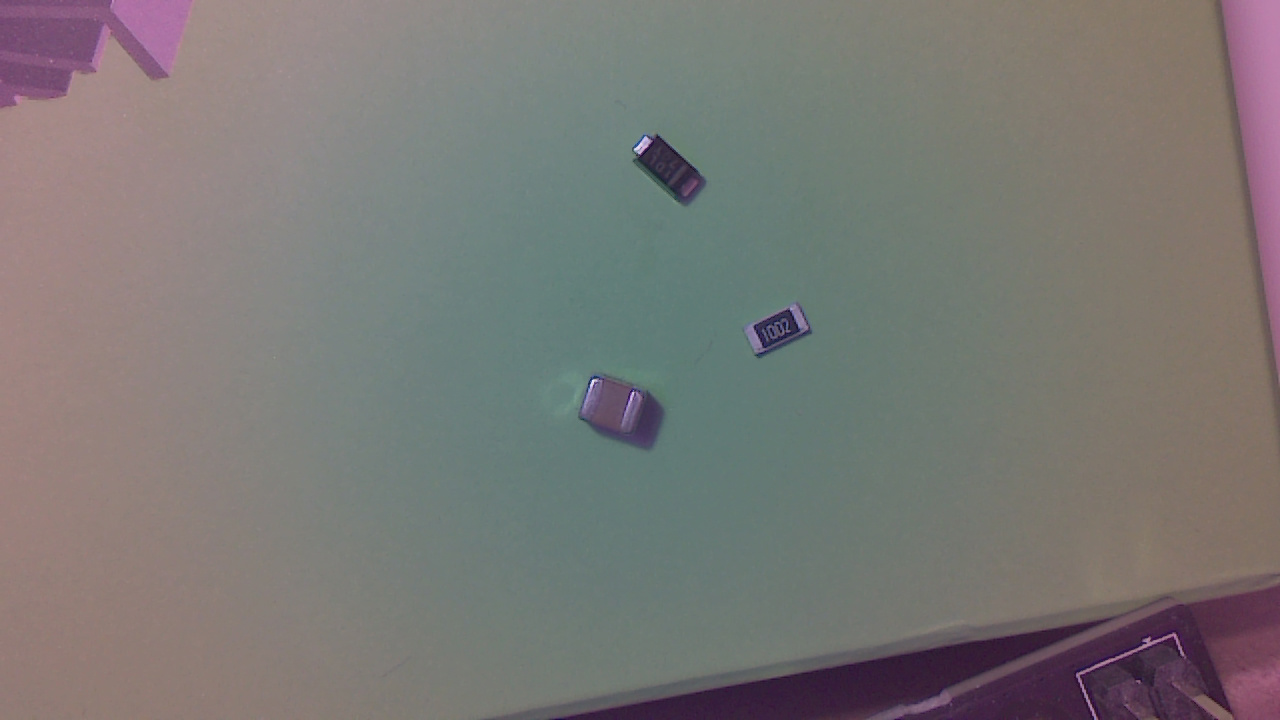Condensator: (587, 378, 655, 436)
Diode: (634, 137, 710, 206)
Resistor: (749, 305, 815, 366)
